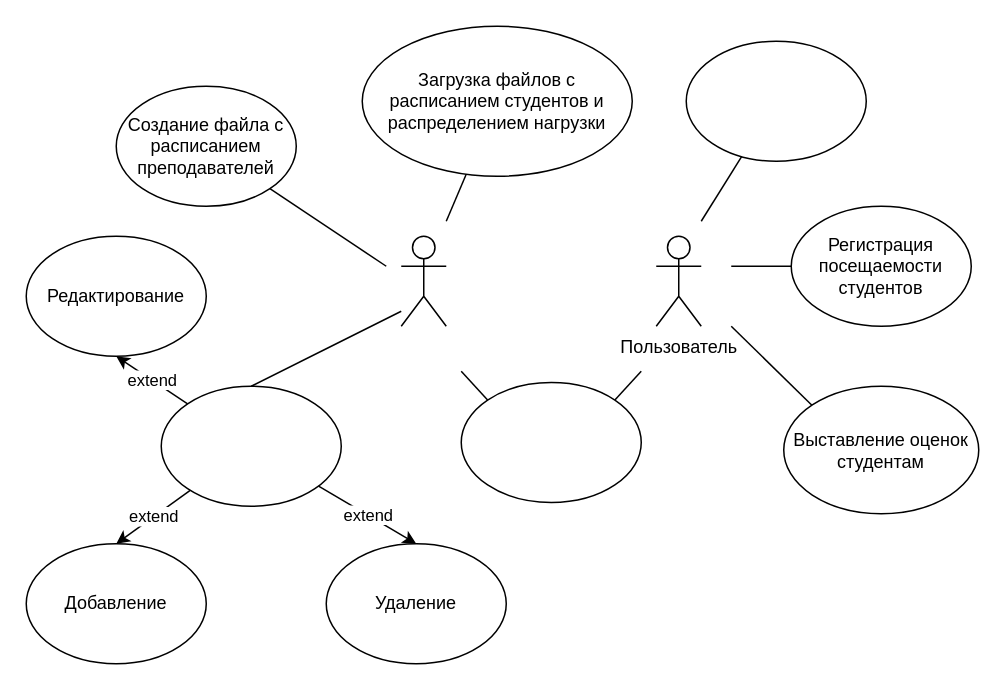
Some shapes in this 1005 by 690 pixel diagram are drawn without their labels. The centre of each missing label's shape, as x and y in pixels:
Авторизация: the point at 550,441
Администратор: the point at 423,280
Просмотр расписания: the point at 775,100
Работа с данными: the point at 250,445
